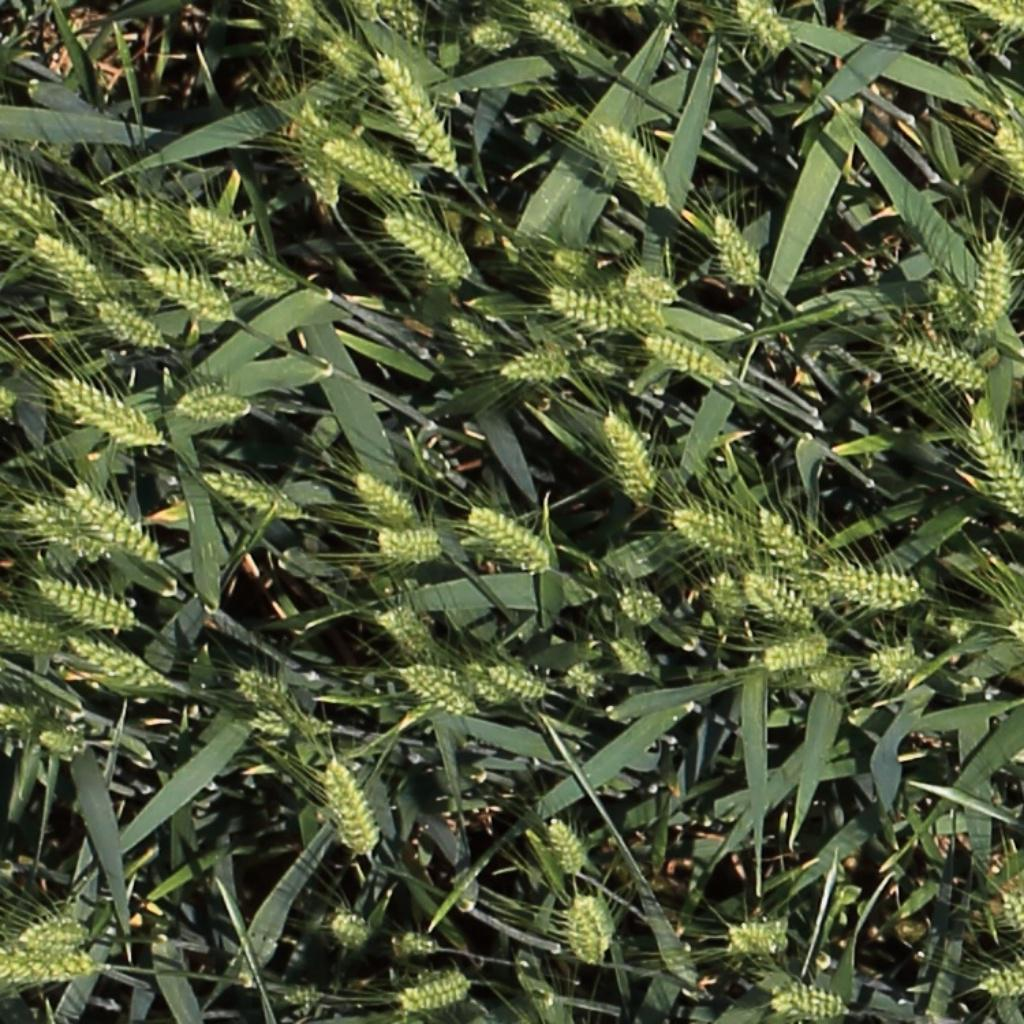0-0: (371, 48, 461, 178), (50, 379, 171, 452), (752, 503, 830, 612), (61, 484, 158, 562), (595, 117, 671, 208), (139, 263, 239, 330), (320, 756, 385, 856), (966, 410, 1024, 520), (31, 230, 113, 307), (464, 502, 552, 573), (600, 409, 663, 503), (87, 191, 200, 243), (382, 212, 469, 278), (295, 95, 344, 210), (817, 560, 927, 610), (668, 507, 772, 558), (319, 137, 412, 192), (66, 637, 161, 690), (740, 568, 817, 630), (183, 201, 266, 258), (19, 505, 102, 561), (35, 581, 133, 628), (641, 333, 734, 382), (203, 472, 300, 518), (0, 159, 59, 234), (707, 207, 760, 290), (892, 342, 985, 389), (978, 226, 1017, 337), (905, 0, 972, 64), (389, 972, 480, 1018), (216, 257, 307, 303), (349, 471, 417, 532), (0, 946, 105, 983), (765, 976, 853, 1019), (244, 706, 338, 745), (372, 0, 442, 52), (602, 278, 666, 333), (12, 911, 95, 953), (174, 381, 254, 424), (560, 901, 607, 974), (548, 288, 638, 326), (223, 662, 294, 710), (373, 603, 438, 655), (499, 344, 578, 386), (92, 300, 161, 348), (0, 698, 84, 737), (396, 675, 482, 713), (543, 816, 593, 880), (574, 887, 616, 960), (932, 281, 985, 338), (392, 663, 478, 698), (737, 1, 790, 57), (376, 528, 449, 566), (759, 633, 826, 674), (726, 914, 793, 955), (438, 310, 496, 357), (525, 8, 584, 54), (544, 241, 607, 282), (319, 905, 375, 951), (486, 661, 550, 700), (322, 29, 371, 79), (35, 724, 99, 762), (708, 567, 745, 632), (992, 121, 1024, 194), (866, 643, 924, 682), (976, 958, 1024, 1005), (560, 659, 611, 703), (623, 268, 681, 305), (606, 634, 652, 679), (389, 925, 441, 964), (0, 617, 62, 649), (278, 976, 334, 1011), (614, 585, 663, 622), (462, 670, 509, 707), (281, 0, 322, 42), (579, 345, 631, 378), (801, 654, 855, 685), (996, 881, 1024, 936), (466, 26, 517, 56), (984, 1, 1024, 33), (0, 381, 25, 432), (1001, 608, 1024, 650)
